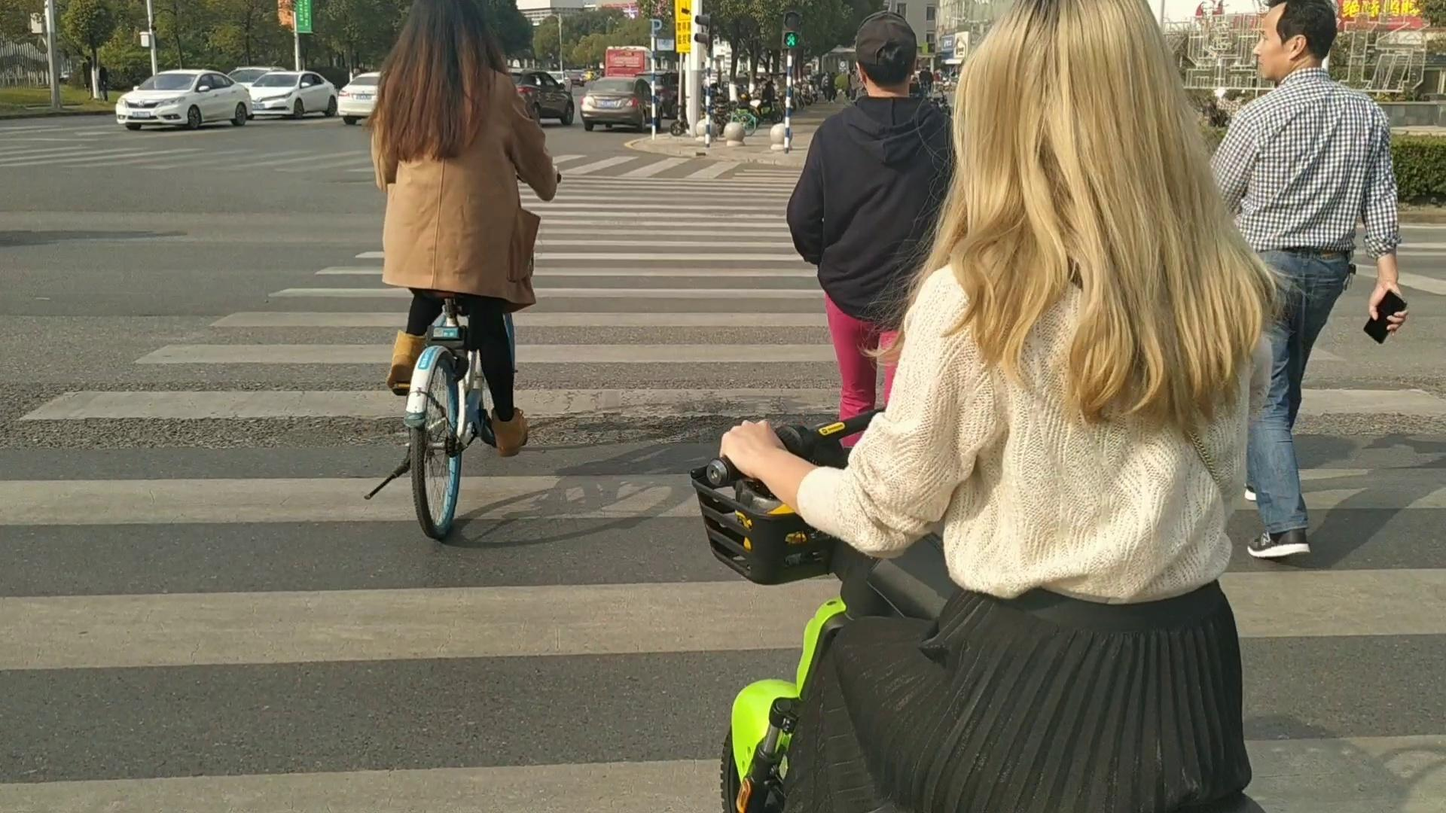car: (115, 69, 254, 132), (234, 69, 338, 121), (579, 80, 650, 132), (512, 73, 574, 126), (337, 72, 382, 126)
